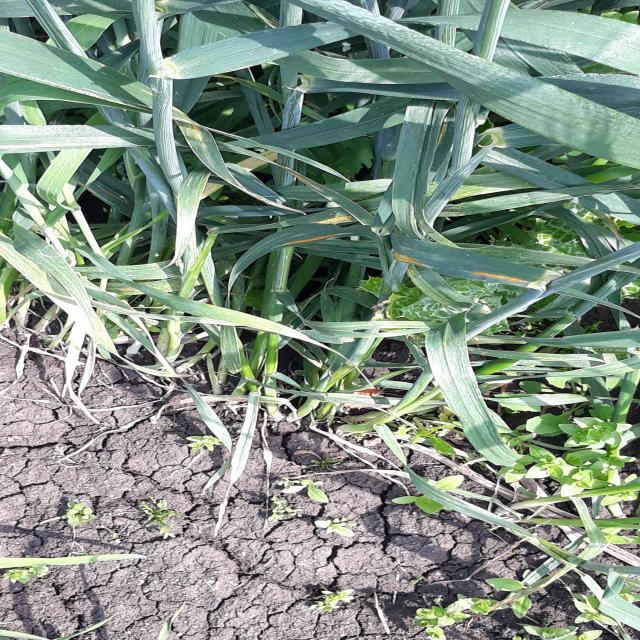yellow_rust: (3, 236, 209, 368), (167, 95, 336, 211), (5, 62, 154, 179), (478, 525, 637, 627), (383, 234, 564, 297), (223, 206, 378, 269)
